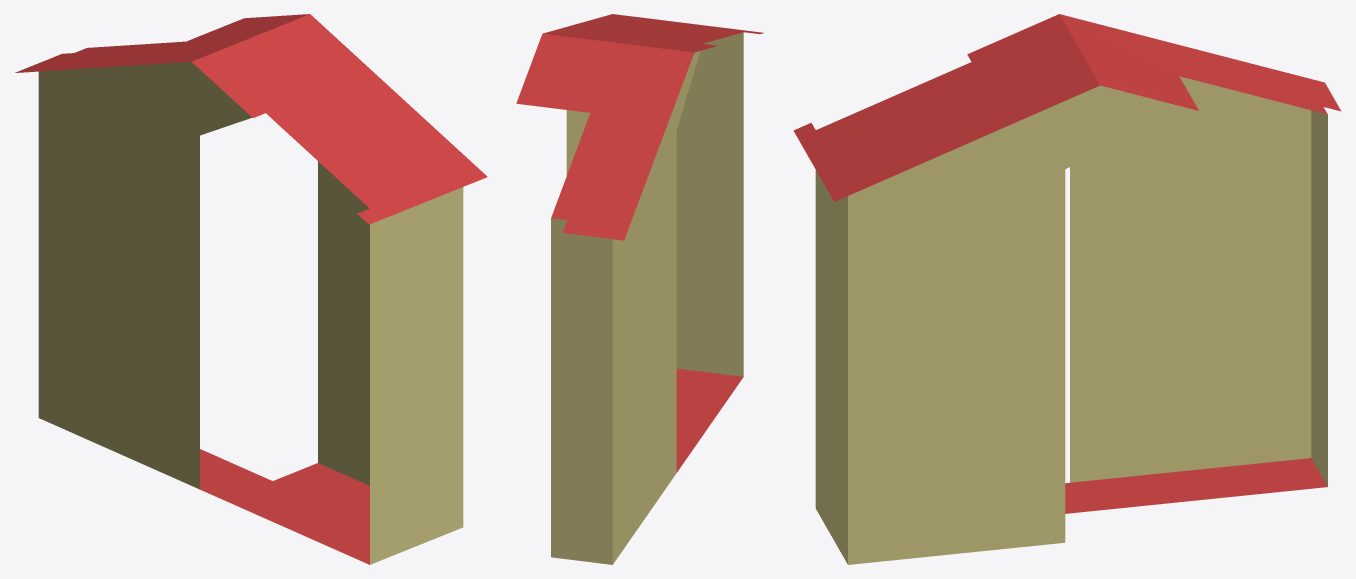
3 renders of one model, left to right at view 1: azimuth 30°, elevation 25°; view 2: azimuth 150°, elevation 25°; view 3: azimuth 270°, elevation 25°, orthographic. The views are drawn at different scales.
Size of the model in its own units: 8.02 by 14.76 by 13.72.
